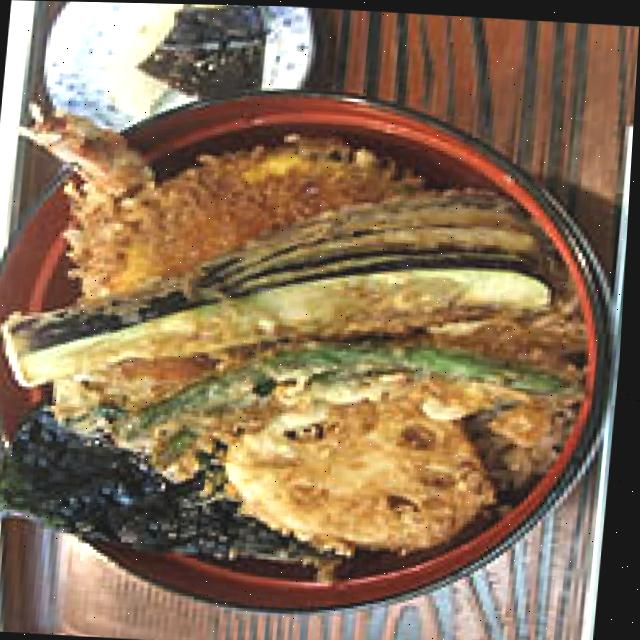熟制海鲜: (0, 68, 637, 635)
